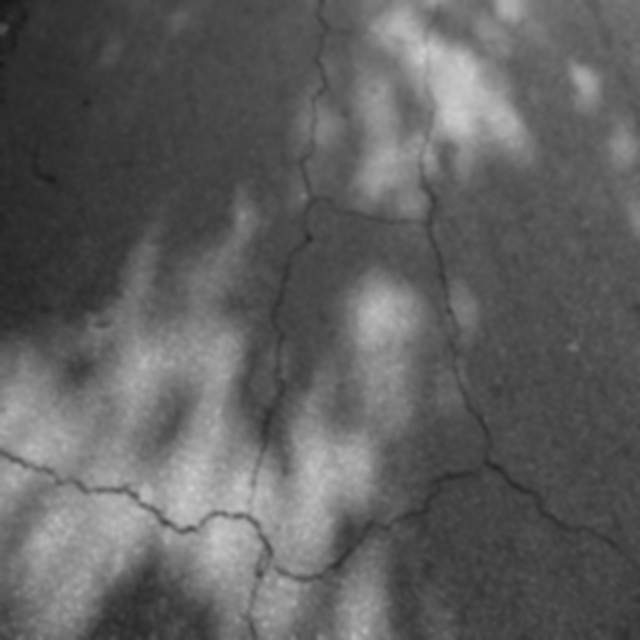SurfaceCrack: (1, 365, 640, 632)
